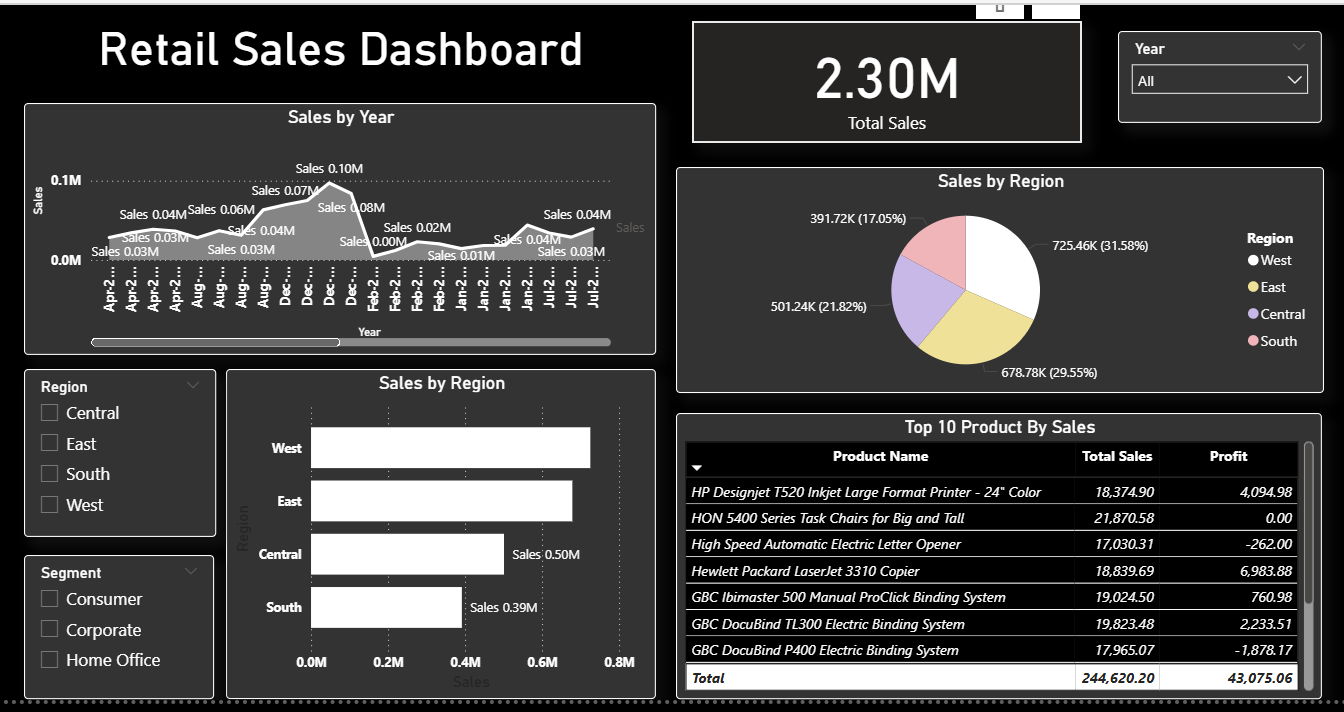

This screenshot's page, from the dashboard's own definition file:
{"tool":"powerbi","page":{"name":"Retail Sales Dashboard","canvas":[1280,720],"ordinal":0},"visuals":[{"type":"lineChart","fields":{"Category":["Orders.Year"],"Y":["Sum(Orders.Sales)"]},"box":[22.7,155.3,598.3,238.6],"z":0},{"type":"barChart","fields":{"Y":["Sum(Orders.Sales)"],"Category":["Orders.Region"]},"box":[214,407.1,407.1,312.4],"z":1000},{"type":"pieChart","fields":{"Category":["Orders.Region"],"Y":["Sum(Orders.Sales)"]},"box":[640,215.9,613.5,214],"z":2000},{"type":"tableEx","title":"Top 10 Product By Sales","fields":{"Values":["Orders.Product Name","Sum(Orders.Sales)","Sum(Orders.Profit)"]},"box":[640,448.8,611.6,270.8],"z":3000},{"type":"slicer","fields":{"Values":["Orders.Segment"]},"box":[22.7,583.2,179.9,136.3],"z":4000},{"type":"slicer","fields":{"Values":["Orders.Region"]},"box":[22.7,407.1,181.8,159.1],"z":5000},{"type":"slicer","title":"Retail Sales Dashboards","fields":{"Values":["Orders.Year"]},"box":[1058.5,87.1,193.1,87.1],"z":6000},{"type":"card","fields":{"Values":["Sum(Orders.Sales)"]},"box":[655.1,77.6,369.2,115.5],"z":7000},{"type":"textbox","title":"Retail Sales Dashboard","box":[72,77.6,501.8,53],"z":8000}]}

Visuals, with their boxes on the page's 1280x720 design canvas (x1, y1, x2, y2). These are canvas units, not pixel positions in the 1344x712 screenshot, which may show the page scaled, cropped or inside an application window:
lineChart - Orders.Year x Sum(Orders.Sales): detection(23, 155, 621, 394)
barChart - Sum(Orders.Sales) x Orders.Region: detection(214, 407, 621, 720)
pieChart - Orders.Region x Sum(Orders.Sales): detection(640, 216, 1254, 430)
"Top 10 Product By Sales" tableEx: detection(640, 449, 1252, 720)
slicer - Orders.Segment: detection(23, 583, 203, 720)
slicer - Orders.Region: detection(23, 407, 204, 566)
"Retail Sales Dashboards" slicer: detection(1058, 87, 1252, 174)
card - Sum(Orders.Sales): detection(655, 78, 1024, 193)
"Retail Sales Dashboard" textbox: detection(72, 78, 574, 131)
